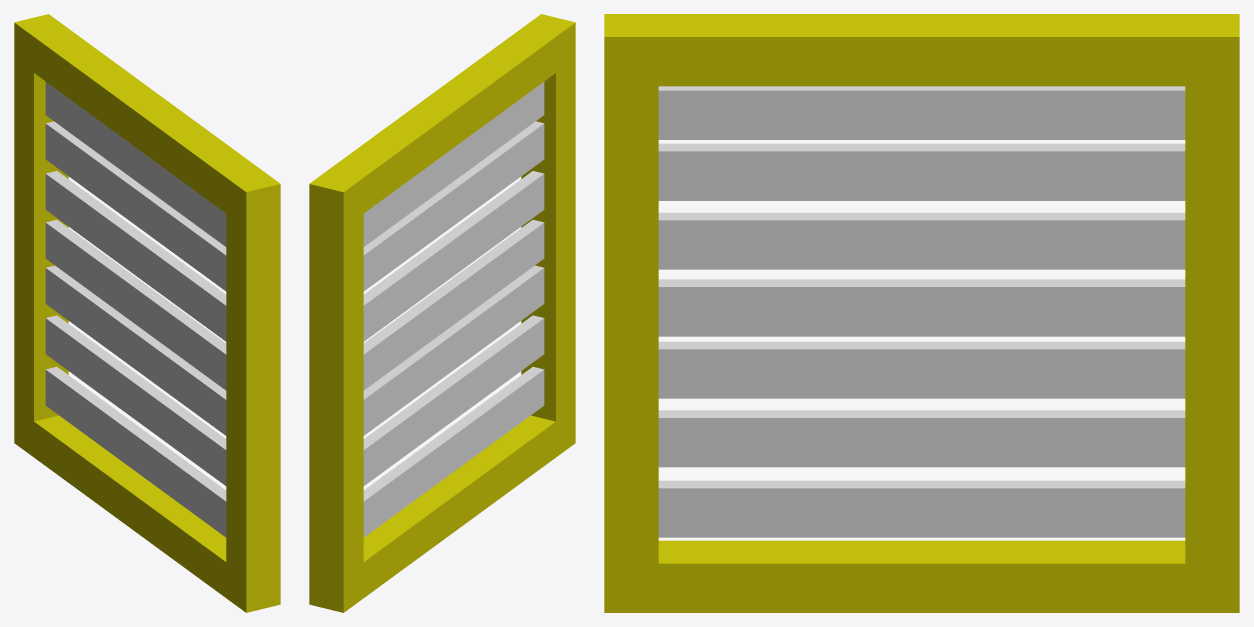
Rendered from Vent.fbx.
3 renders of one model, left to right at view 1: azimuth 30°, elevation 25°; view 2: azimuth 150°, elevation 25°; view 3: azimuth 270°, elevation 25°, orthographic. The views are drawn at different scales.
Visible parts, largest first — view 1: pCube1, pCube9; view 2: pCube1, pCube9; view 3: pCube9, pCube1.
Part boxes in pixels (x1,y1,x2,y2): pCube1: (14,14,280,612); pCube9: (45,82,226,537); pCube1: (309,14,575,612); pCube9: (363,82,544,537); pCube9: (658,86,1185,537); pCube1: (604,14,1239,612).
Bounding box in the file's own units: 3 × 35 × 35.
